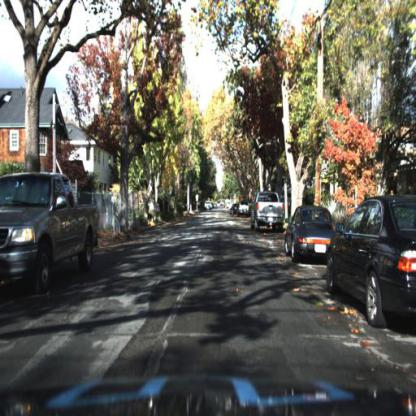car: (1, 170, 102, 294), (329, 192, 416, 322), (282, 200, 332, 273), (286, 203, 341, 261), (251, 191, 286, 238), (251, 192, 283, 230), (237, 199, 251, 220), (230, 203, 239, 216)
